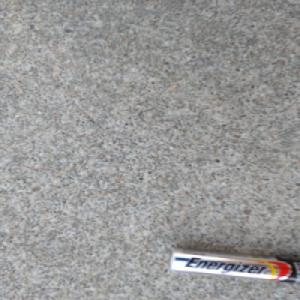Battery: (166, 247, 300, 286)
